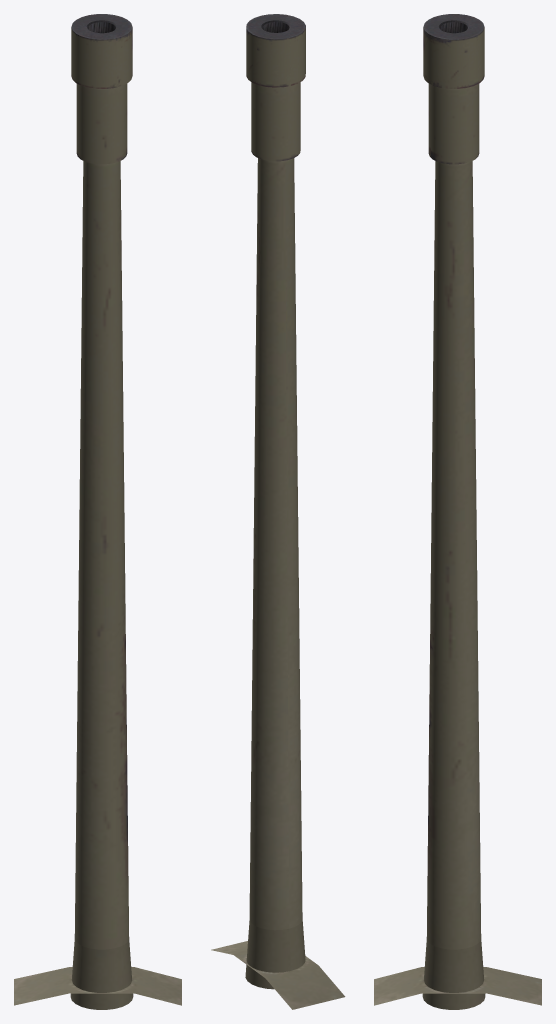
The model's file is Gun_03.glb.
The picture shows the model from 3 angles, left to right: view 1: azimuth 90°, elevation 25°; view 2: azimuth 210°, elevation 25°; view 3: azimuth 270°, elevation 25°; orthographic projection. The views are drawn at different scales.
Visible parts, largest first — view 1: set_0_group_0; view 2: set_0_group_0; view 3: set_0_group_0.
Boxes of the visible parts, x1,y1,x2,y2 form: set_0_group_0: [14, 14, 181, 1009]; set_0_group_0: [211, 14, 345, 1009]; set_0_group_0: [374, 14, 541, 1009].
Bounding box in the file's own units: 0.1893 × 3.23 × 0.5062.
1 material, 1 textured.
